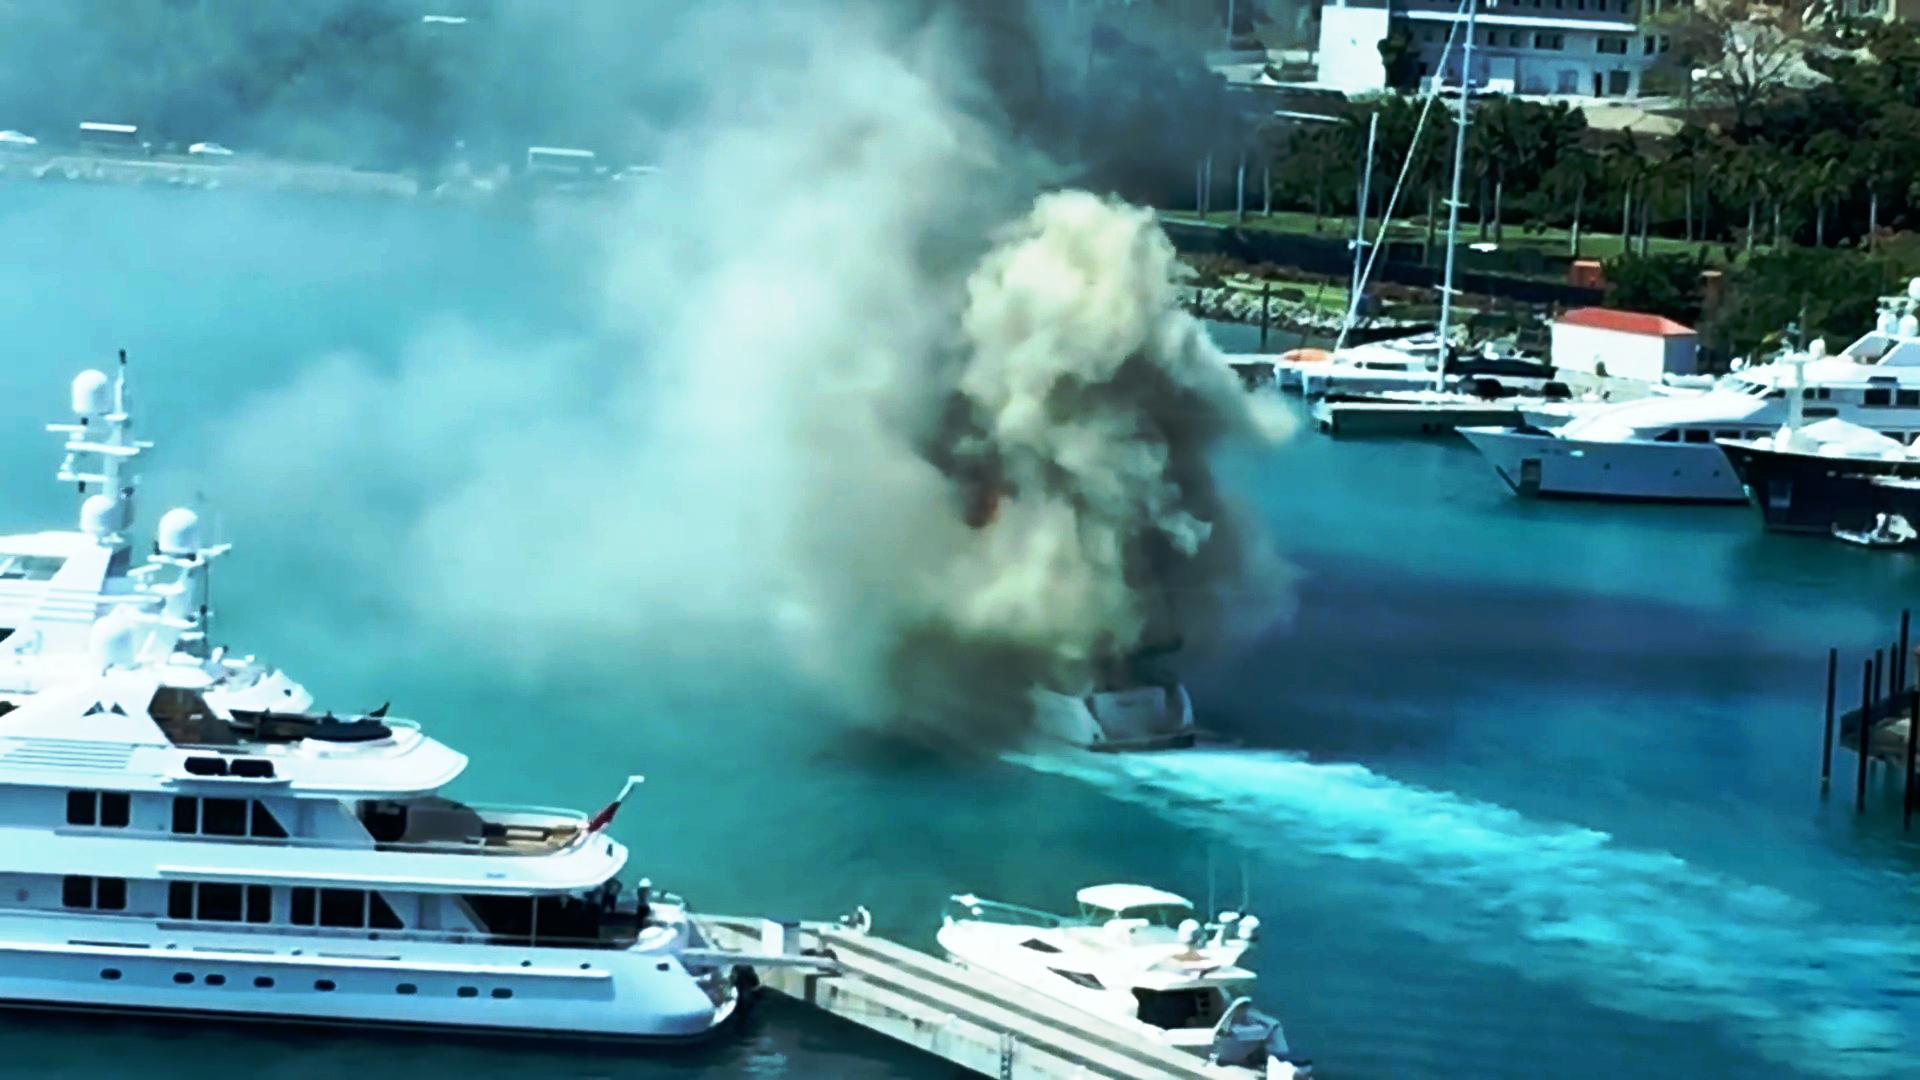smoke: (646, 46, 978, 682), (968, 183, 1292, 670)
